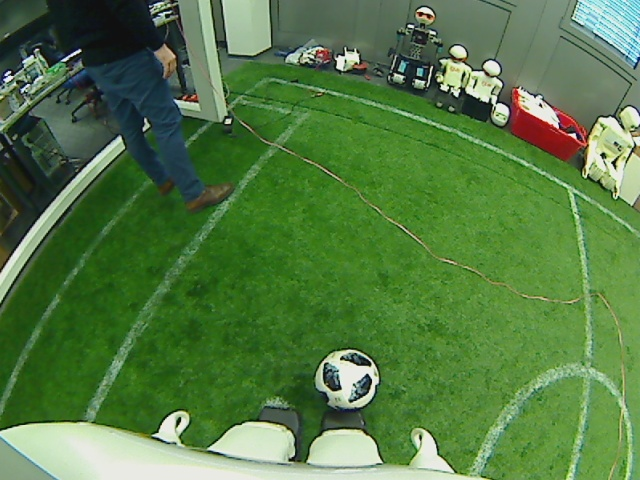ball: (313, 345, 380, 410)
